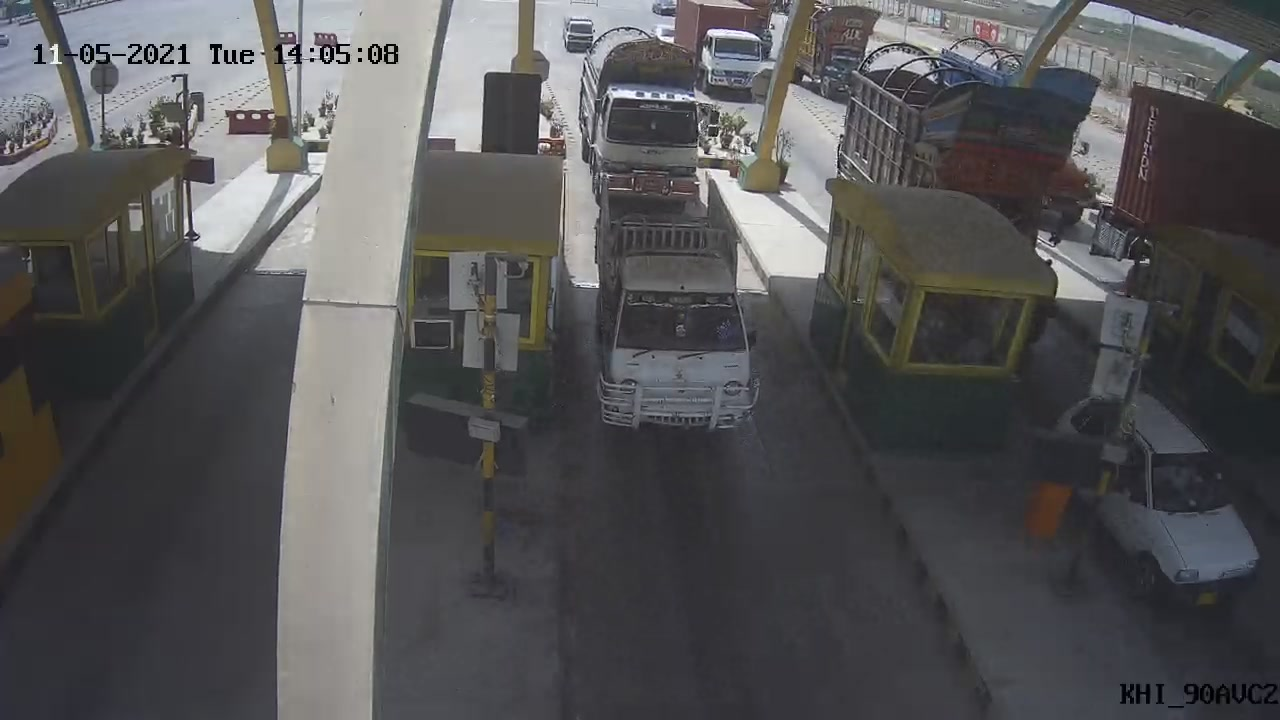F2: (586, 174, 758, 438)
